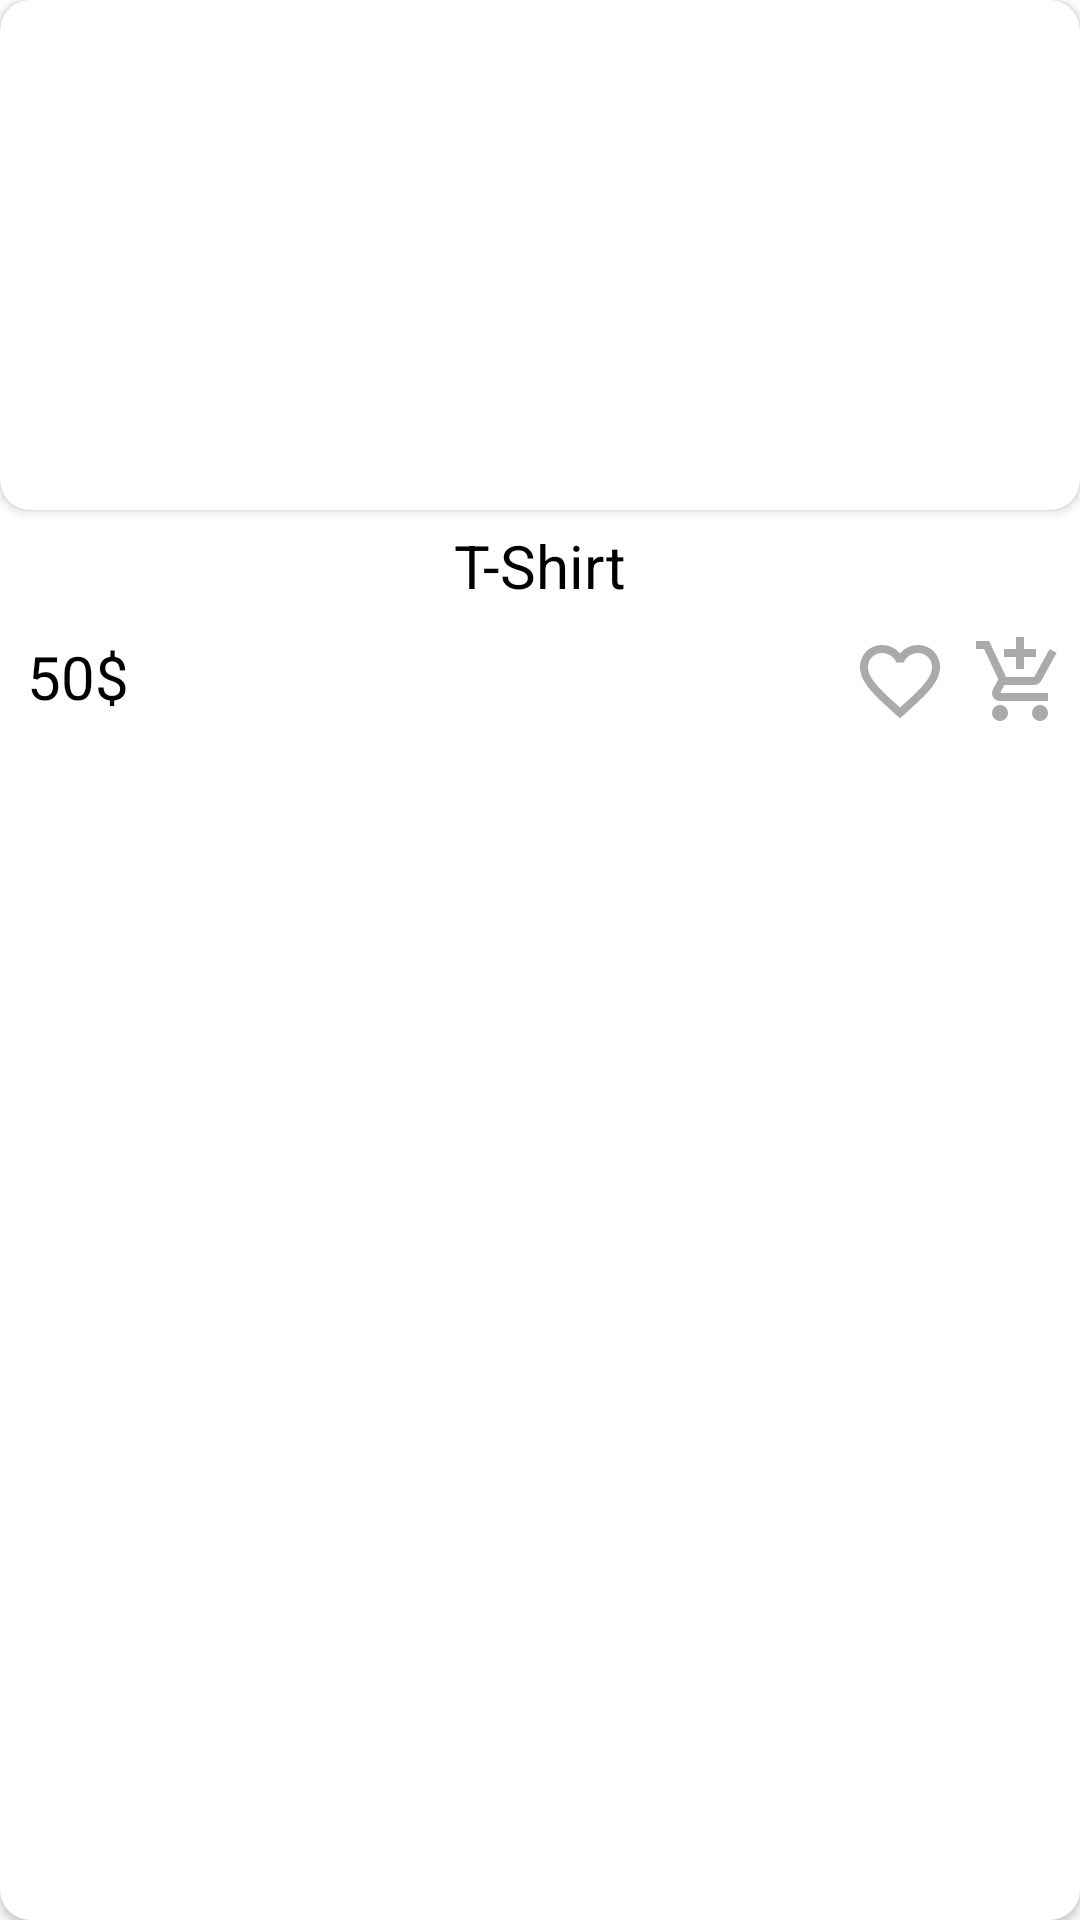

Icon bounding boxes for this 1080px x 1920px phone screenshot, format (x1, y1, x2, y2):
add cart: (976, 637, 1056, 721)
favorite: (860, 645, 940, 718)
